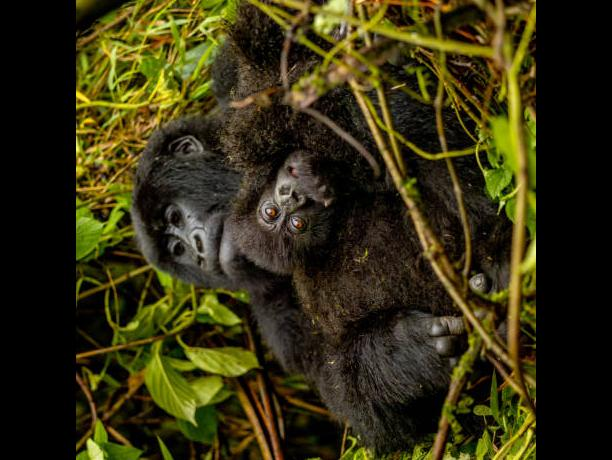goriile_montagne: (114, 0, 536, 448), (240, 9, 468, 304)
